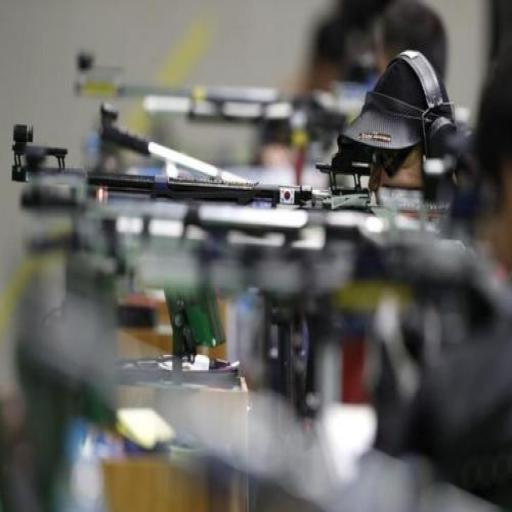shooting: (14, 110, 512, 318), (91, 49, 512, 209)
